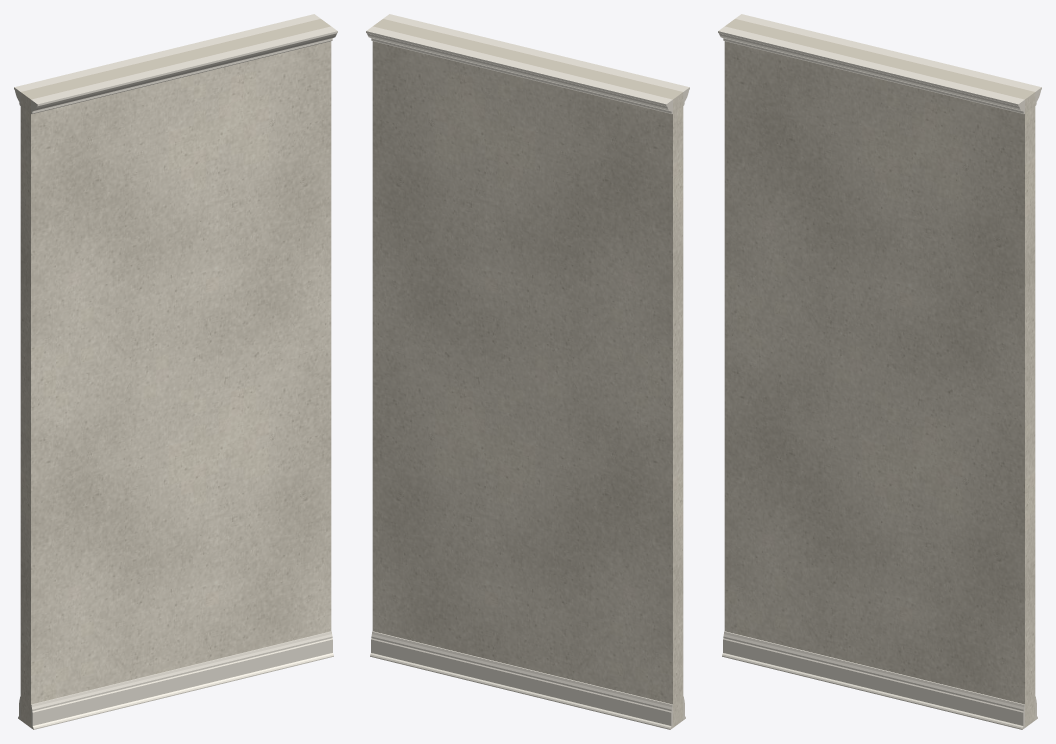
The model's file is interior_wall_plain.glb.
3 views of the same model, side by side, from view 1: azimuth 30°, elevation 25°; view 2: azimuth 150°, elevation 25°; view 3: azimuth 330°, elevation 25° (orthographic).
Parts seen in each view (by area): view 1: interior_wall_plain_plaster, molduras; view 2: interior_wall_plain_plaster, molduras; view 3: interior_wall_plain_plaster, molduras.
Part boxes in pixels (bbox=[...]): interior_wall_plain_plaster: bbox=[20, 19, 331, 727]; molduras: bbox=[14, 14, 337, 729]; interior_wall_plain_plaster: bbox=[372, 19, 683, 727]; molduras: bbox=[366, 14, 689, 729]; interior_wall_plain_plaster: bbox=[724, 19, 1035, 727]; molduras: bbox=[718, 14, 1041, 729].
Size of the model in its own units: 2 by 4 by 0.27.
Materials: 2 (1 with a texture image).
